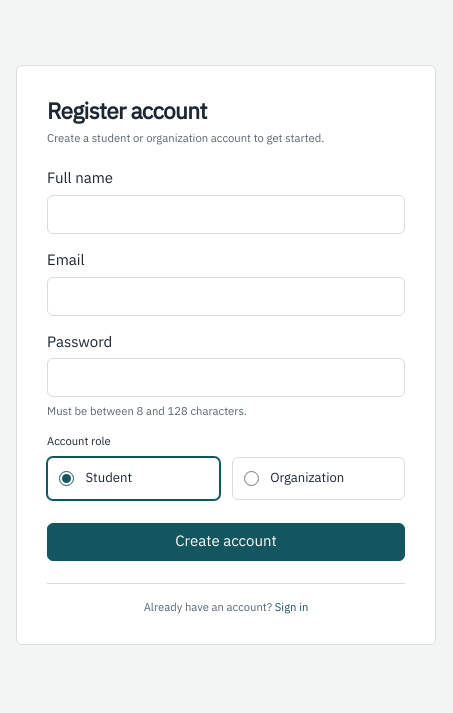
Test: RegisterPage Component › displays rate limit cooldown notice and disables submit button on 429 response
The width and height of the screenshot is (453, 713).
Step 1. Type "Jane Doe" into the field labelled "Full name" → (226, 214), box [47,195,405,234]
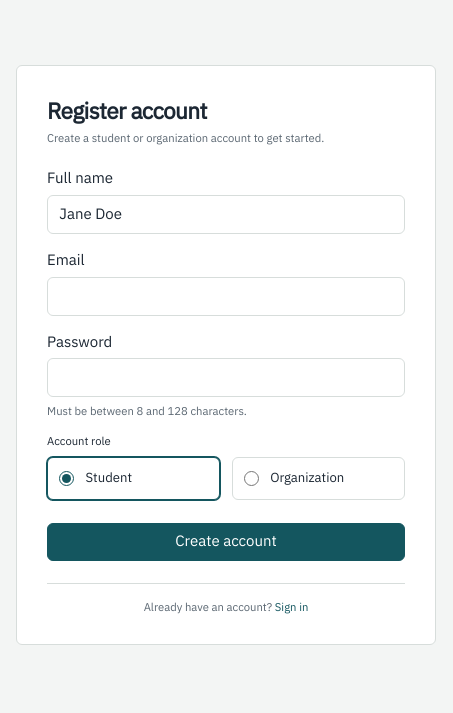
Step 2. Type "jane@example.com" into the field labelled "Email" → (226, 296), box [47,276,405,316]
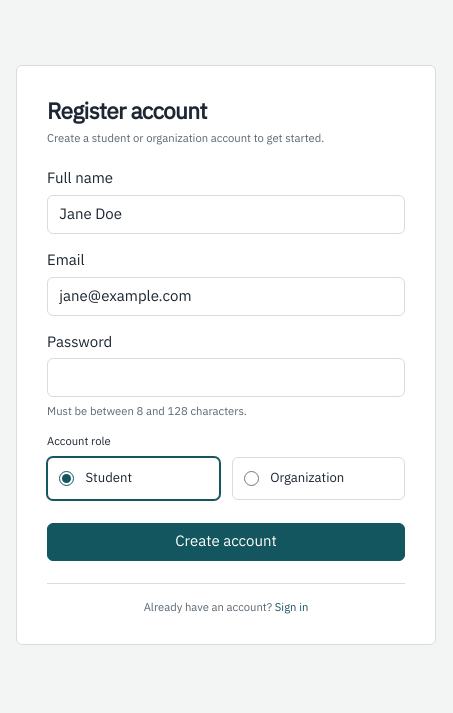
Step 3. Type "Password123!" into the password field labelled "Password" → (226, 378), box [47,358,405,397]
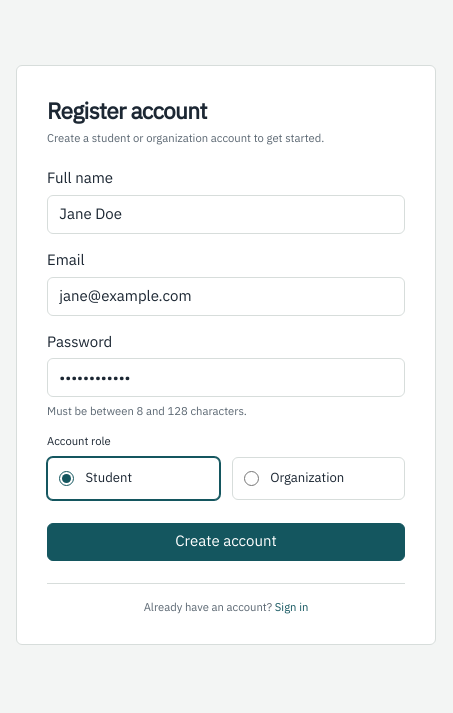
Step 4. Click the button "Create account" → (226, 542), box [47,523,405,560]
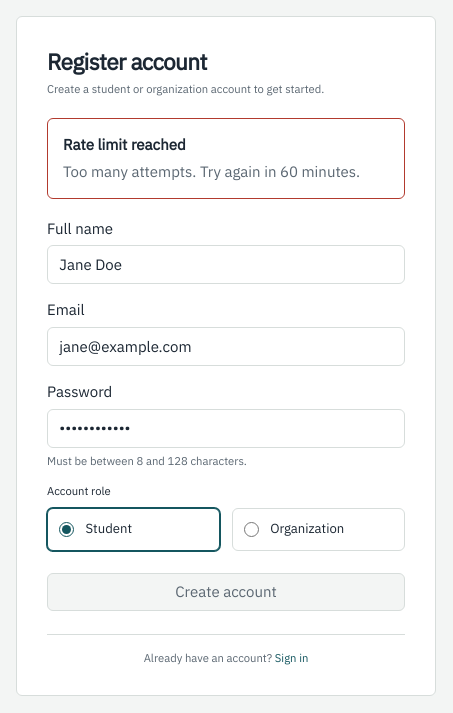
Result: the text "Too many attempts. Try again in 60 minutes." is shown at [63,160,389,183]
Result: the button "Create account" is disabled at [47,573,405,611]
